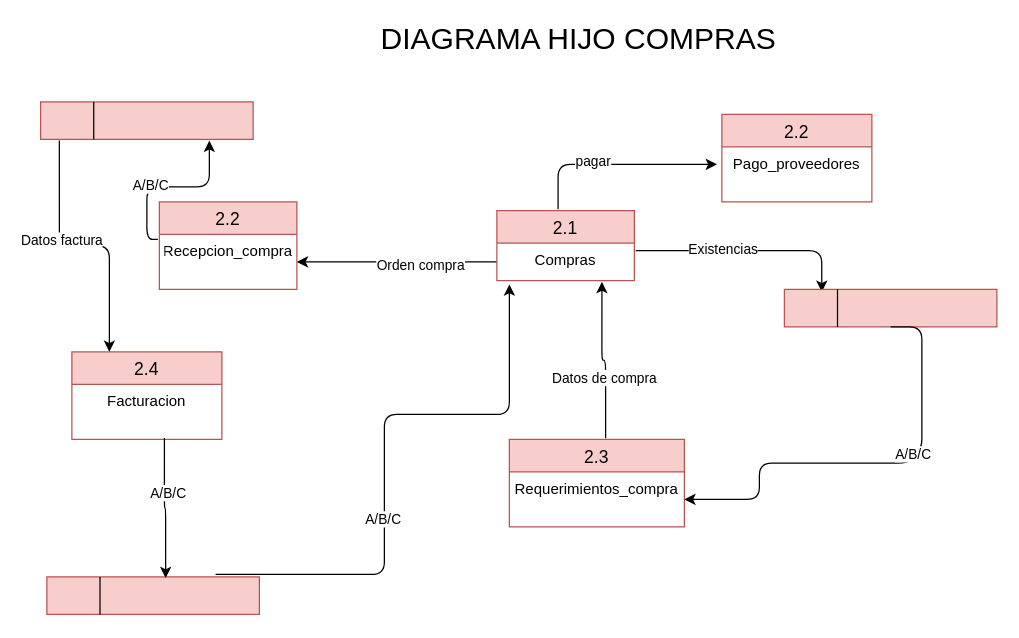
The diagram is 1019 pixels wide and 638 high, and some of its shapes have lost their labels. Each missing label, with the centre of its shape:
Tbl_facturacion: (x=152, y=595)
Tbl_productos: (x=890, y=307)
Tbl_proveedores: (x=146, y=120)
